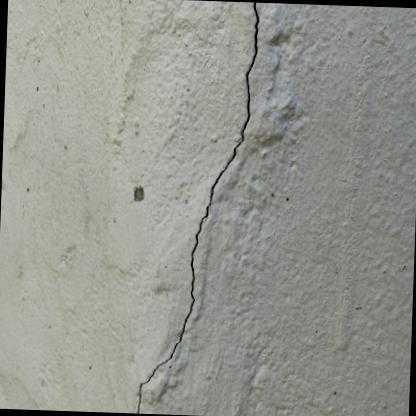crack: (135, 1, 258, 414)
